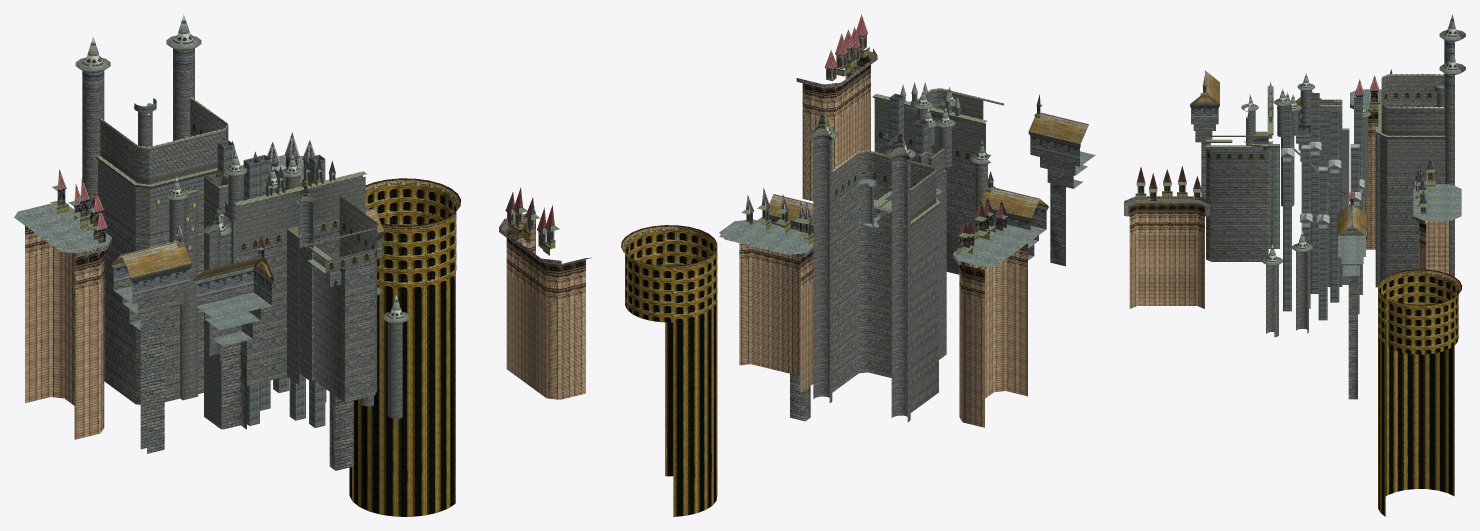
The model's file is Hang Castle 5.fbx.
3 views of the same model, side by side, from view 1: azimuth 30°, elevation 25°; view 2: azimuth 150°, elevation 25°; view 3: azimuth 270°, elevation 25° (orthographic). The views are drawn at different scales.
Parts seen in each view (by area): view 1: Object_2.013; view 2: Object_2.013; view 3: Object_2.013.
Boxes of the visible parts, x1,y1,x2,y2 form: Object_2.013: [14, 14, 591, 516]; Object_2.013: [621, 14, 1095, 516]; Object_2.013: [1124, 14, 1465, 516].
Size of the model in its own units: 1005382 by 1133908 by 909982.
